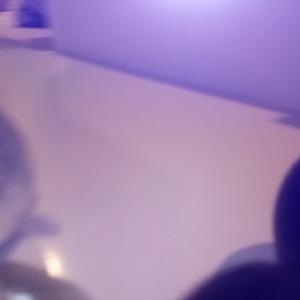alive_ball: (1, 108, 34, 259)
dead_ball: (170, 263, 300, 300), (274, 154, 300, 278)
